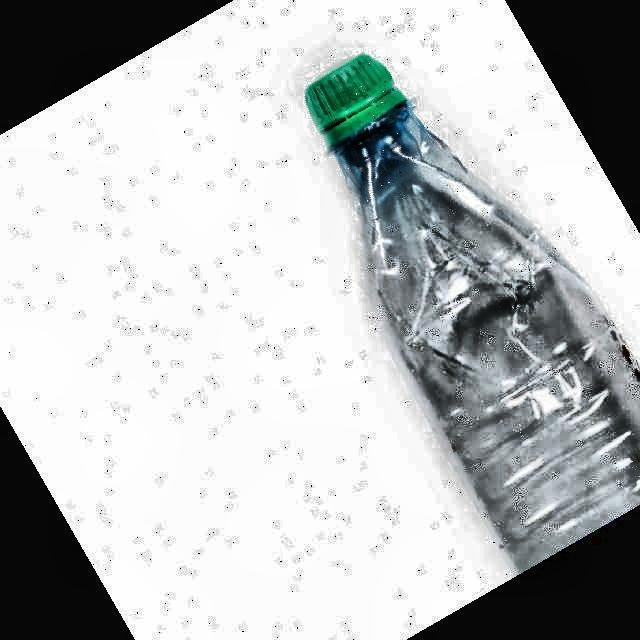plastic: (308, 56, 640, 569)
